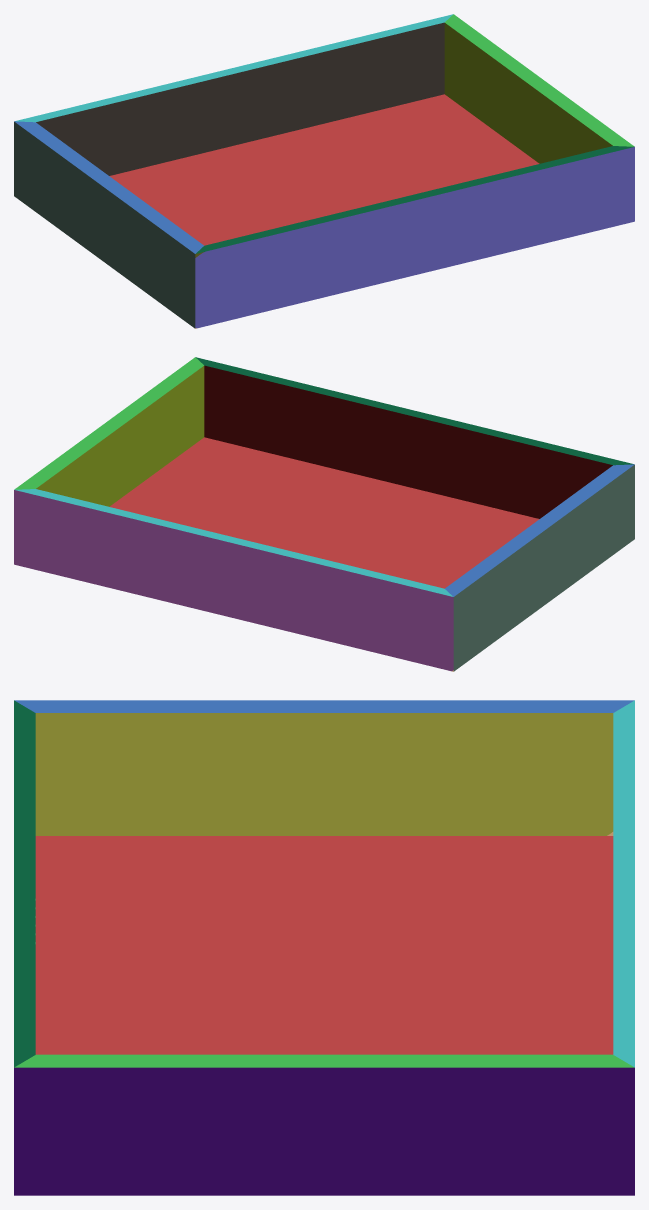
3 views of the same model, one above another, from view 1: azimuth 30°, elevation 25°; view 2: azimuth 150°, elevation 25°; view 3: azimuth 270°, elevation 25° (orthographic). The views are drawn at different scales.
Parts seen in each view (by area): view 1: Box; view 2: Box; view 3: Box.
Boxes of the visible parts, left/top/right/bottom form: Box: left=14, top=14, right=634, bottom=328; Box: left=14, top=357, right=634, bottom=671; Box: left=14, top=700, right=634, bottom=1195.
Bounding box in the file's own units: 280 × 45.5 × 200.
Materials: 1 (1 with a texture image).
